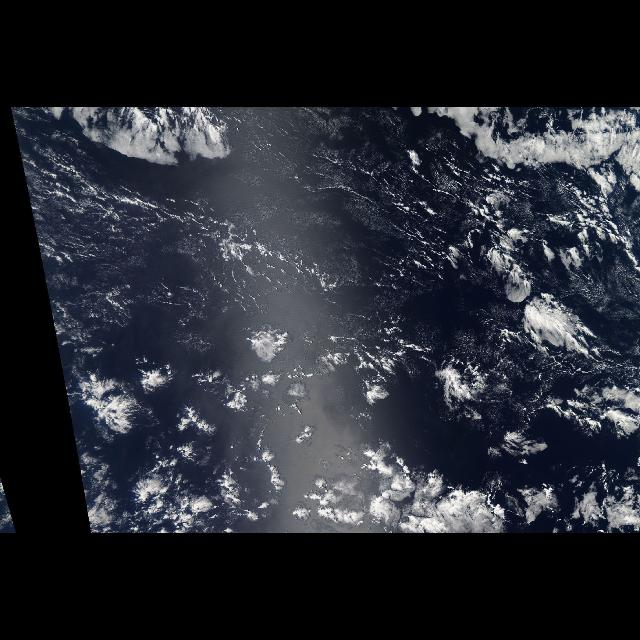Flower: (66, 322, 500, 534)
Sugar: (32, 162, 450, 330)
